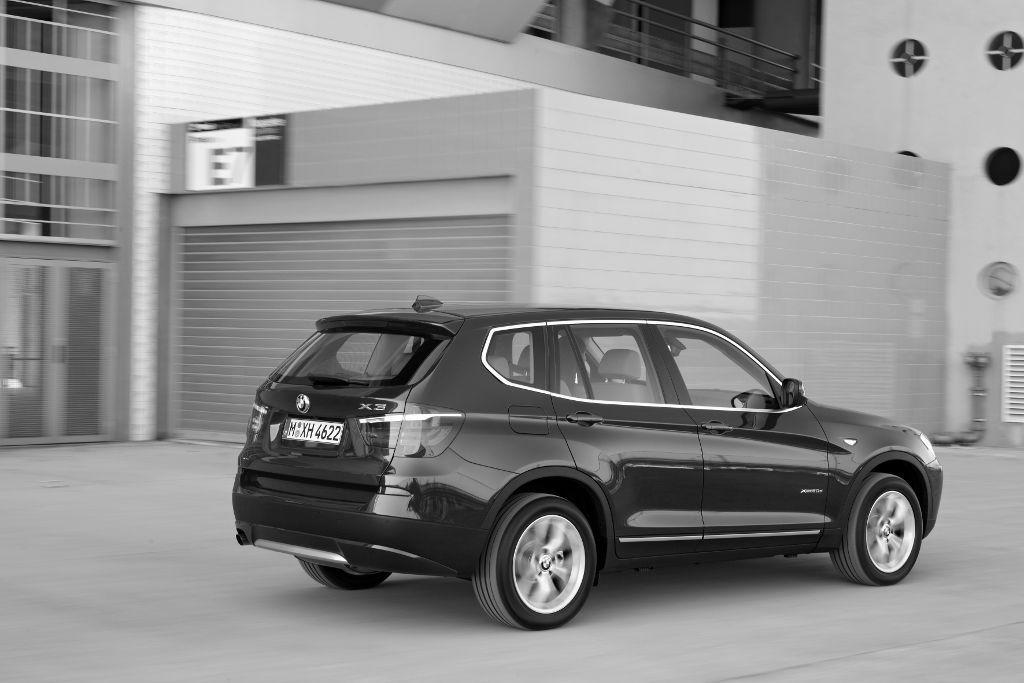car: (232, 295, 947, 636)
